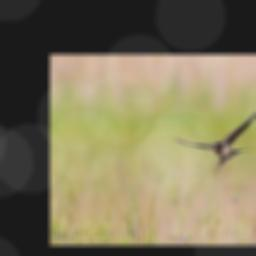Swallow: (175, 109, 256, 172)
